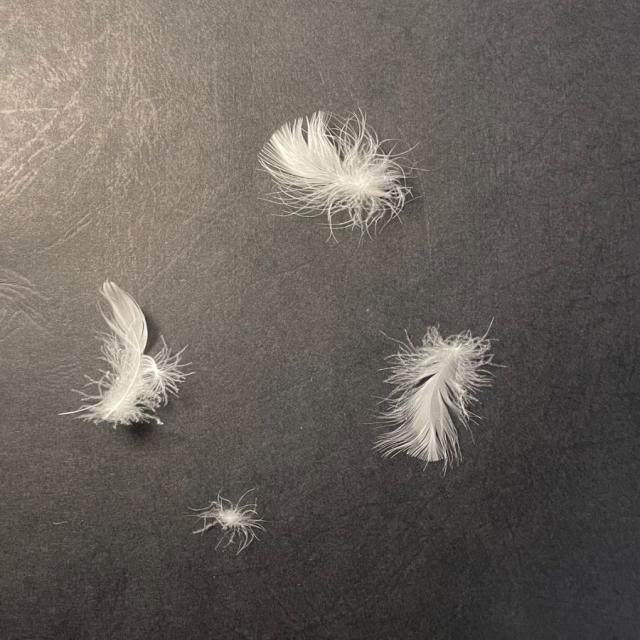feather: (253, 106, 433, 237), (364, 314, 507, 466), (74, 275, 186, 441), (193, 484, 269, 544)
